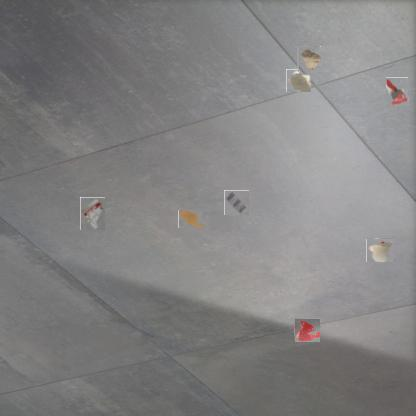dirty: (80, 197, 105, 230), (366, 238, 393, 262), (386, 77, 408, 106), (224, 190, 249, 215), (298, 46, 322, 72), (286, 69, 311, 92)
liquid: (294, 318, 320, 342), (178, 210, 203, 228)
